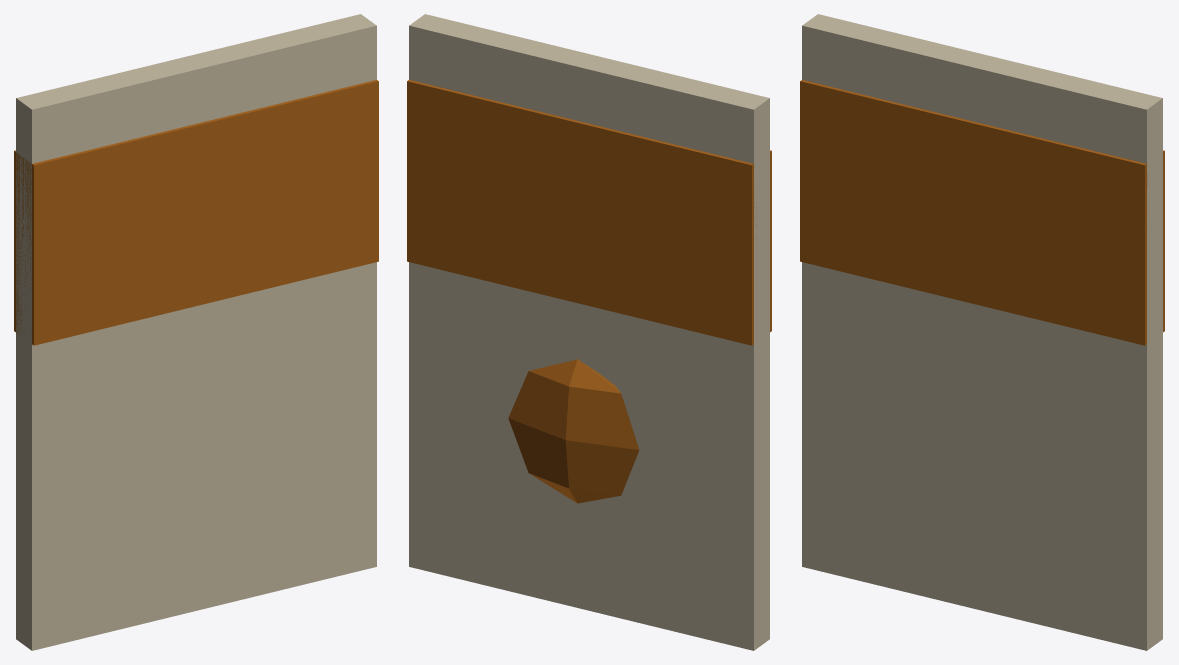
File: tool_seed_packet_pumpkin.glb
3 views of the same model, side by side, from view 1: azimuth 30°, elevation 25°; view 2: azimuth 150°, elevation 25°; view 3: azimuth 330°, elevation 25° (orthographic).
Visible parts, largest first — view 1: Packet; view 2: Packet; view 3: Packet.
Part boxes in pixels (box(x1,y1,x2,y2)): Packet: box(14, 14, 378, 650); Packet: box(407, 14, 771, 650); Packet: box(800, 14, 1164, 650).
Bounding box in the file's own units: 0.1 × 0.15 × 0.017.
